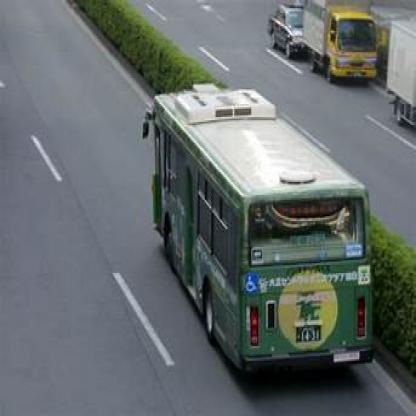bus: (144, 79, 377, 380)
